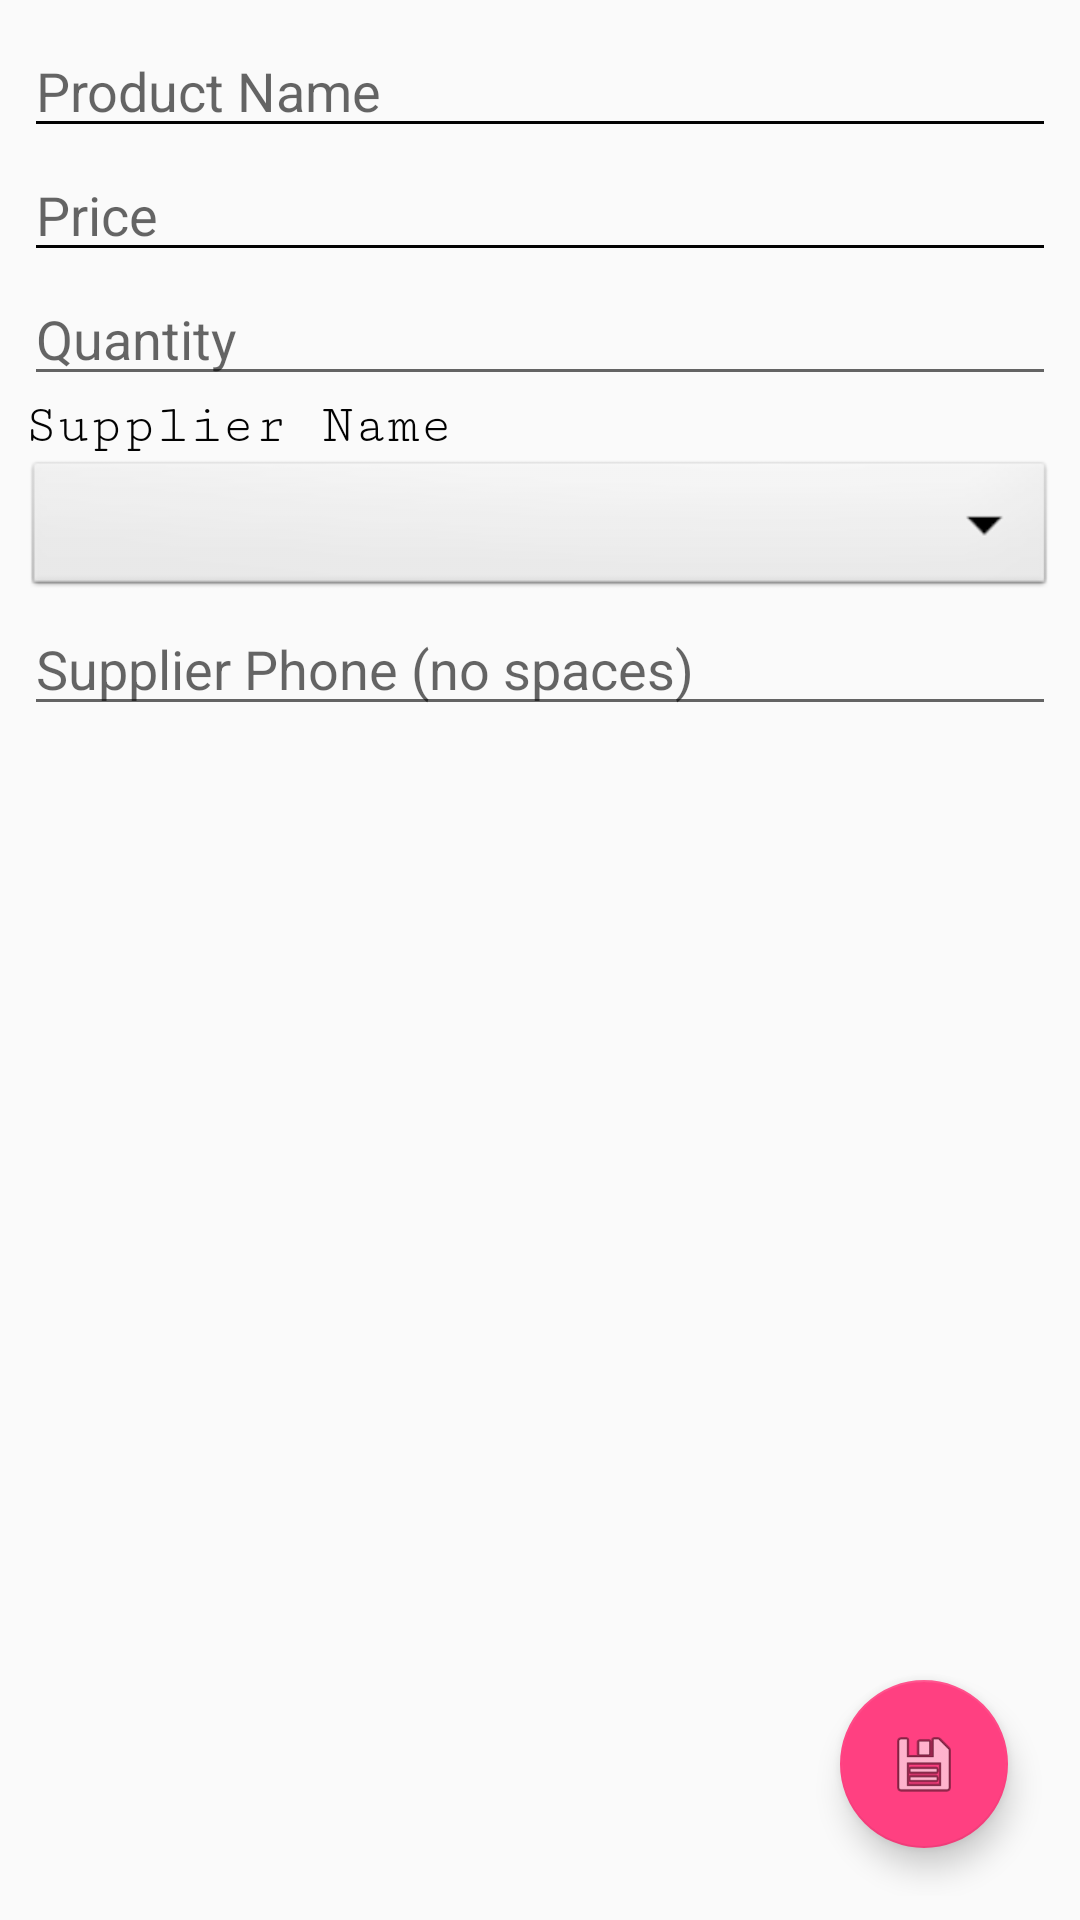

Locate icon controls on the screen. Image size 1080 x 1920, boxes as (x1, y1, x2, y2).
save: (840, 1680, 1008, 1848)
